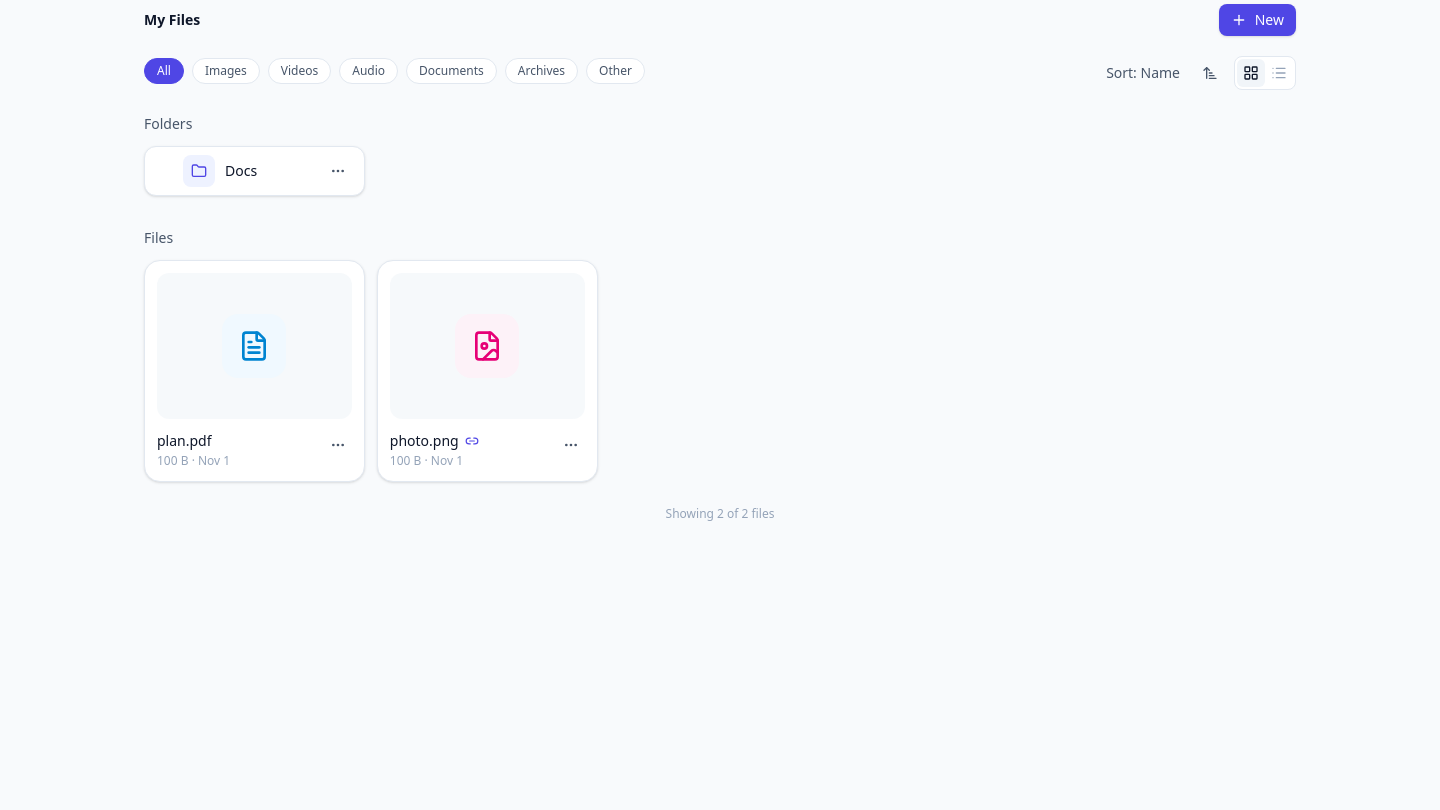
Test: share dialog › says "Never expires" for links without an expiry
Expected: the button "plan.pdf" is shown, 157,431 -> 212,451
Click the button named "Actions for plan.pdf": (338, 445) 324,431 -> 352,459
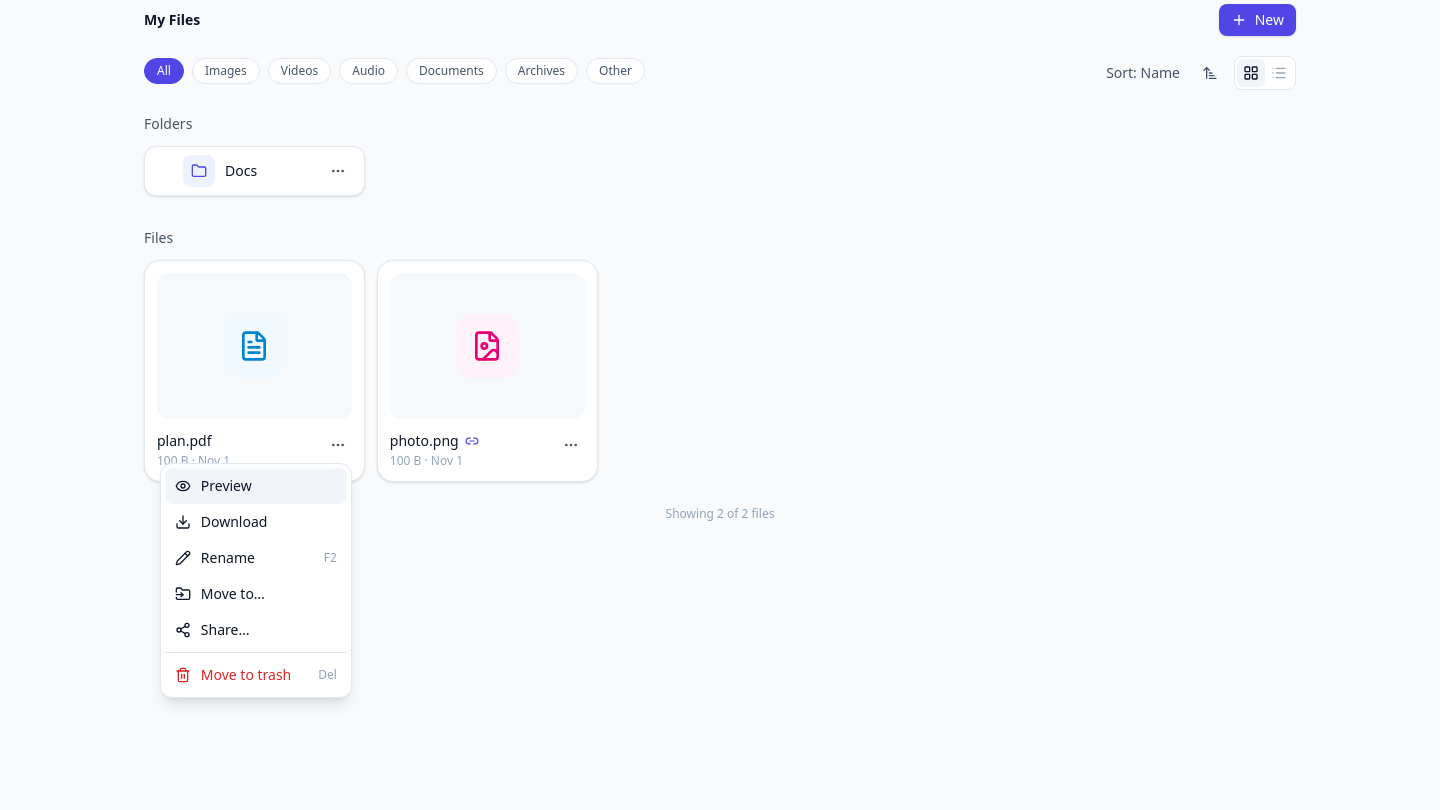
Click the menu item "Share…": (256, 630) 165,612 -> 347,648
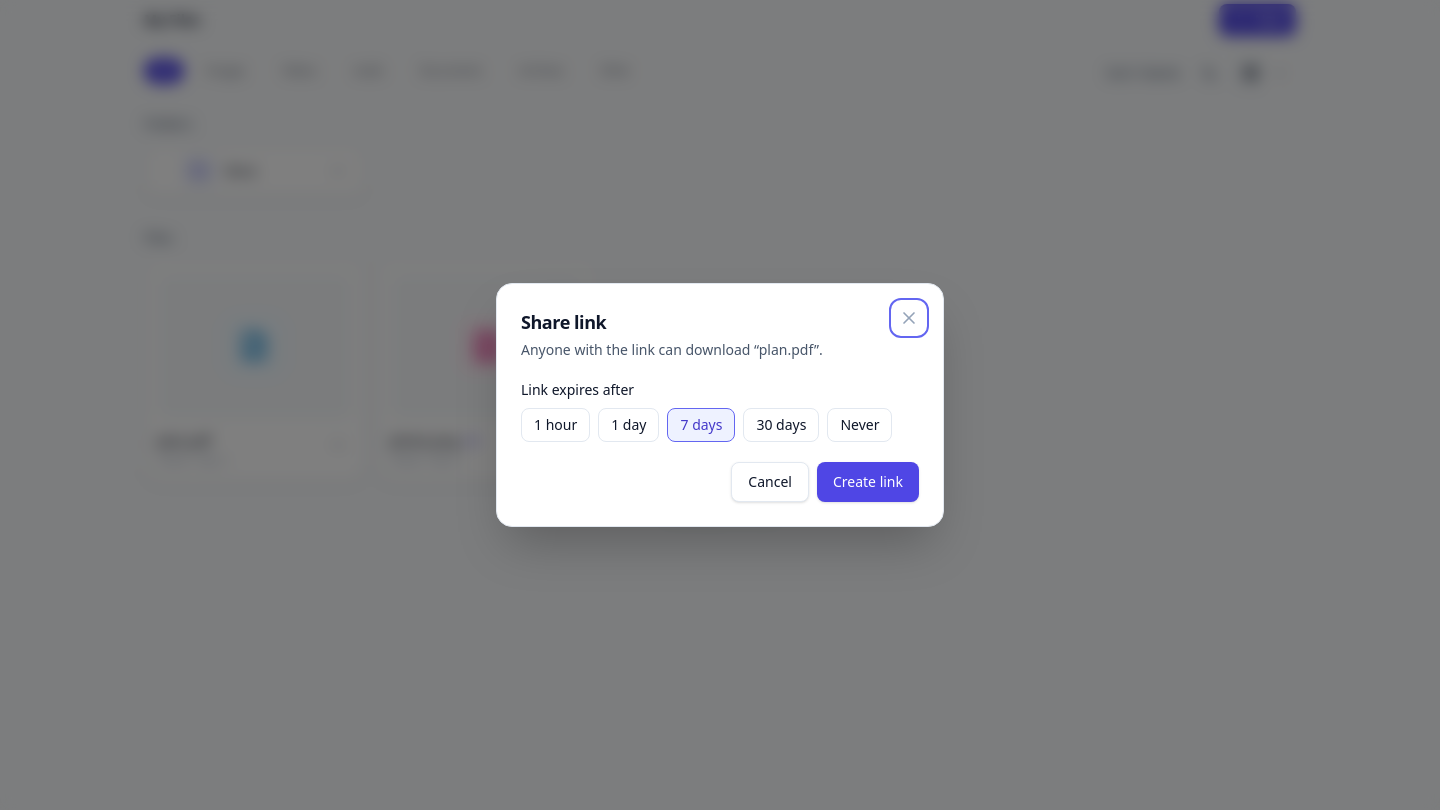
Click the radio button labelled "Never": (860, 425) 827,408 -> 892,442
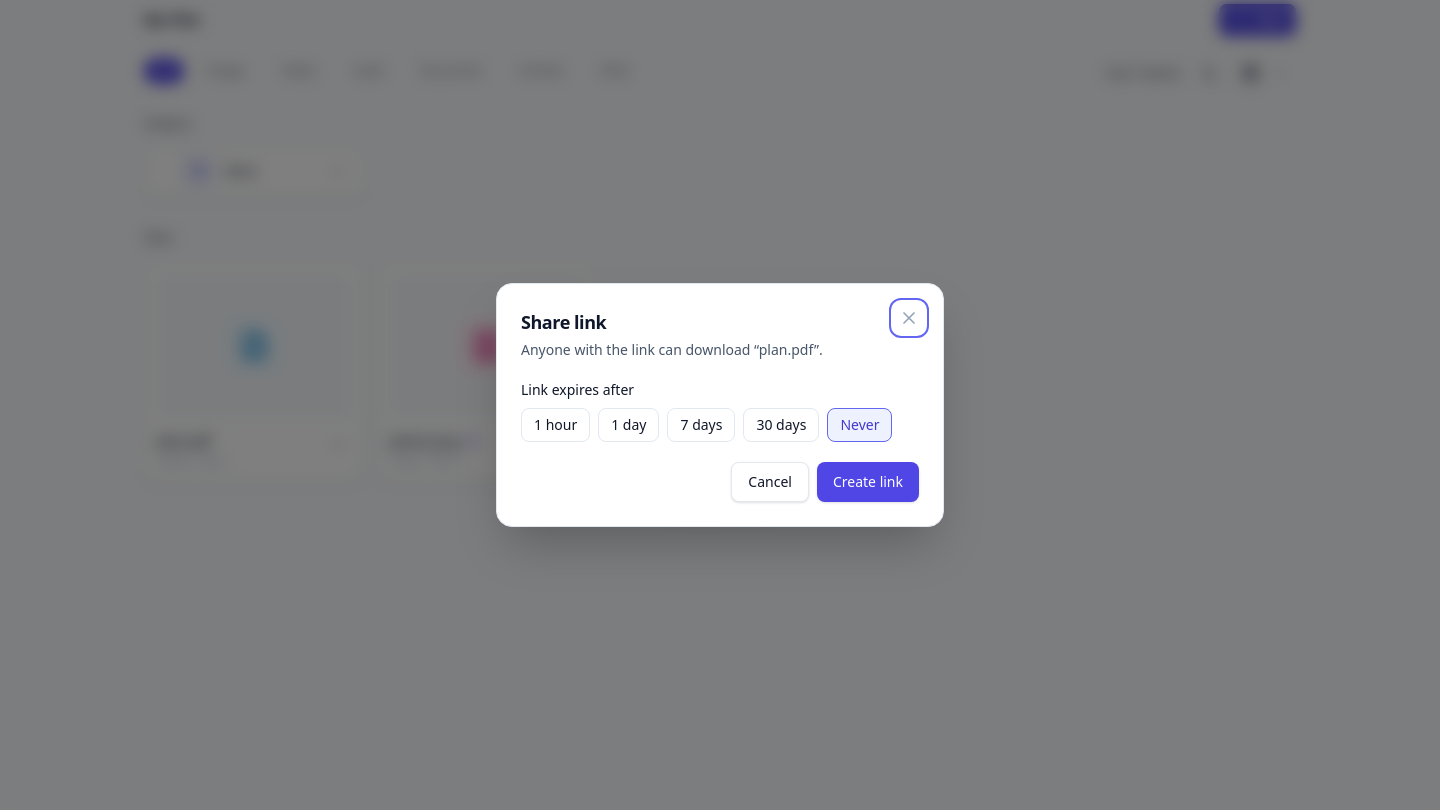
Click the button "Create link": (868, 482) 817,462 -> 919,502
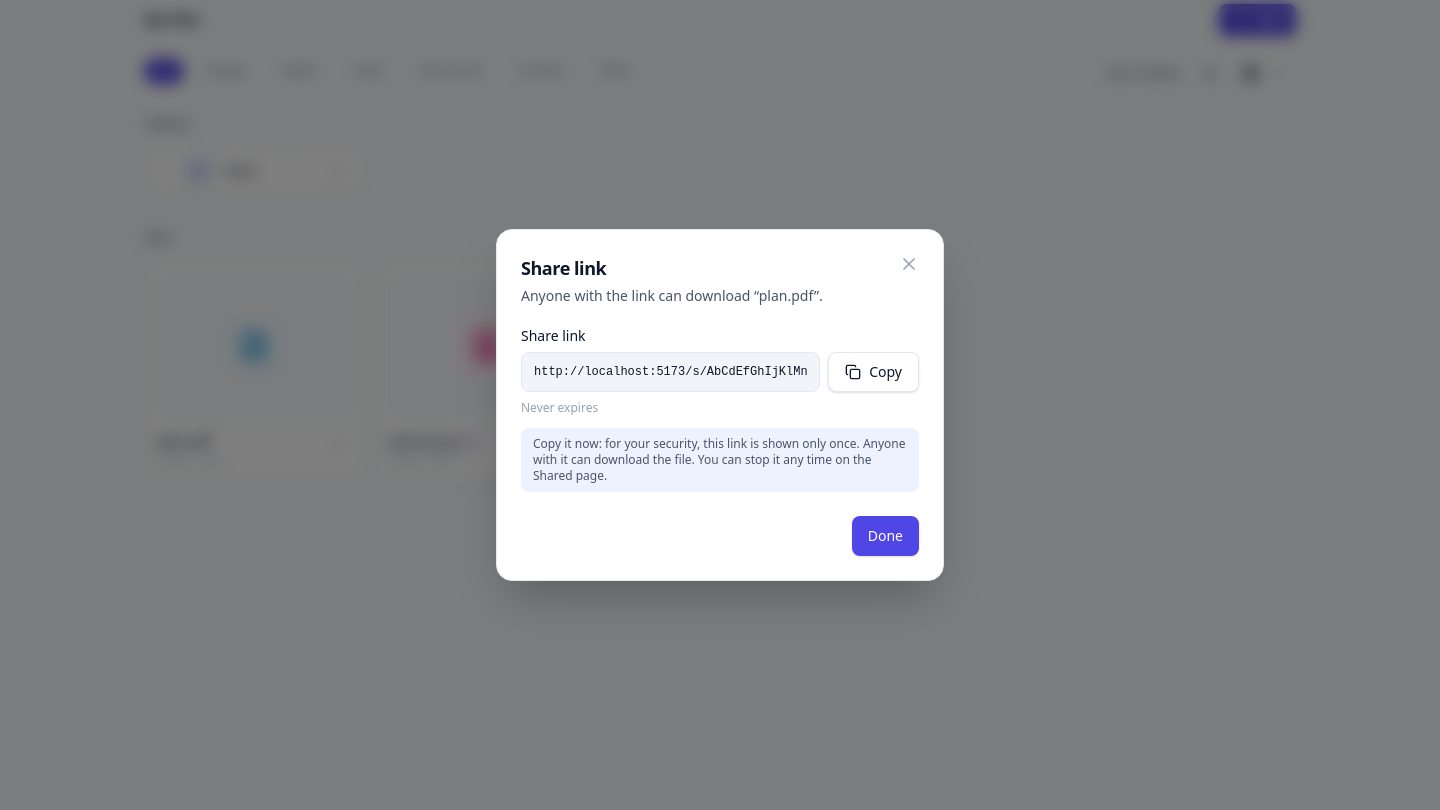
Expected: the text "Never expires" is shown, 521,399 -> 598,416
